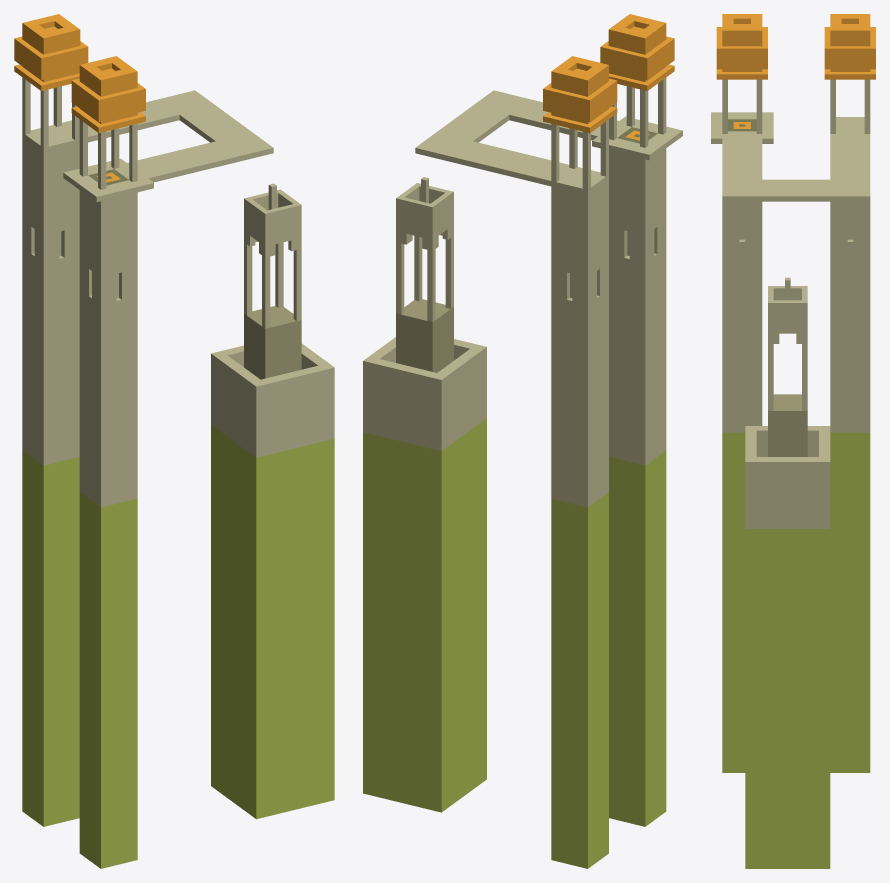
The model's file is cena2.obj.
3 views of the same model, side by side, from view 1: azimuth 30°, elevation 25°; view 2: azimuth 150°, elevation 25°; view 3: azimuth 270°, elevation 25° (orthographic). The views are drawn at different scales.
Bounding box in the file's own units: 4.9 × 14.4 × 2.9.
1 material, 1 textured.
